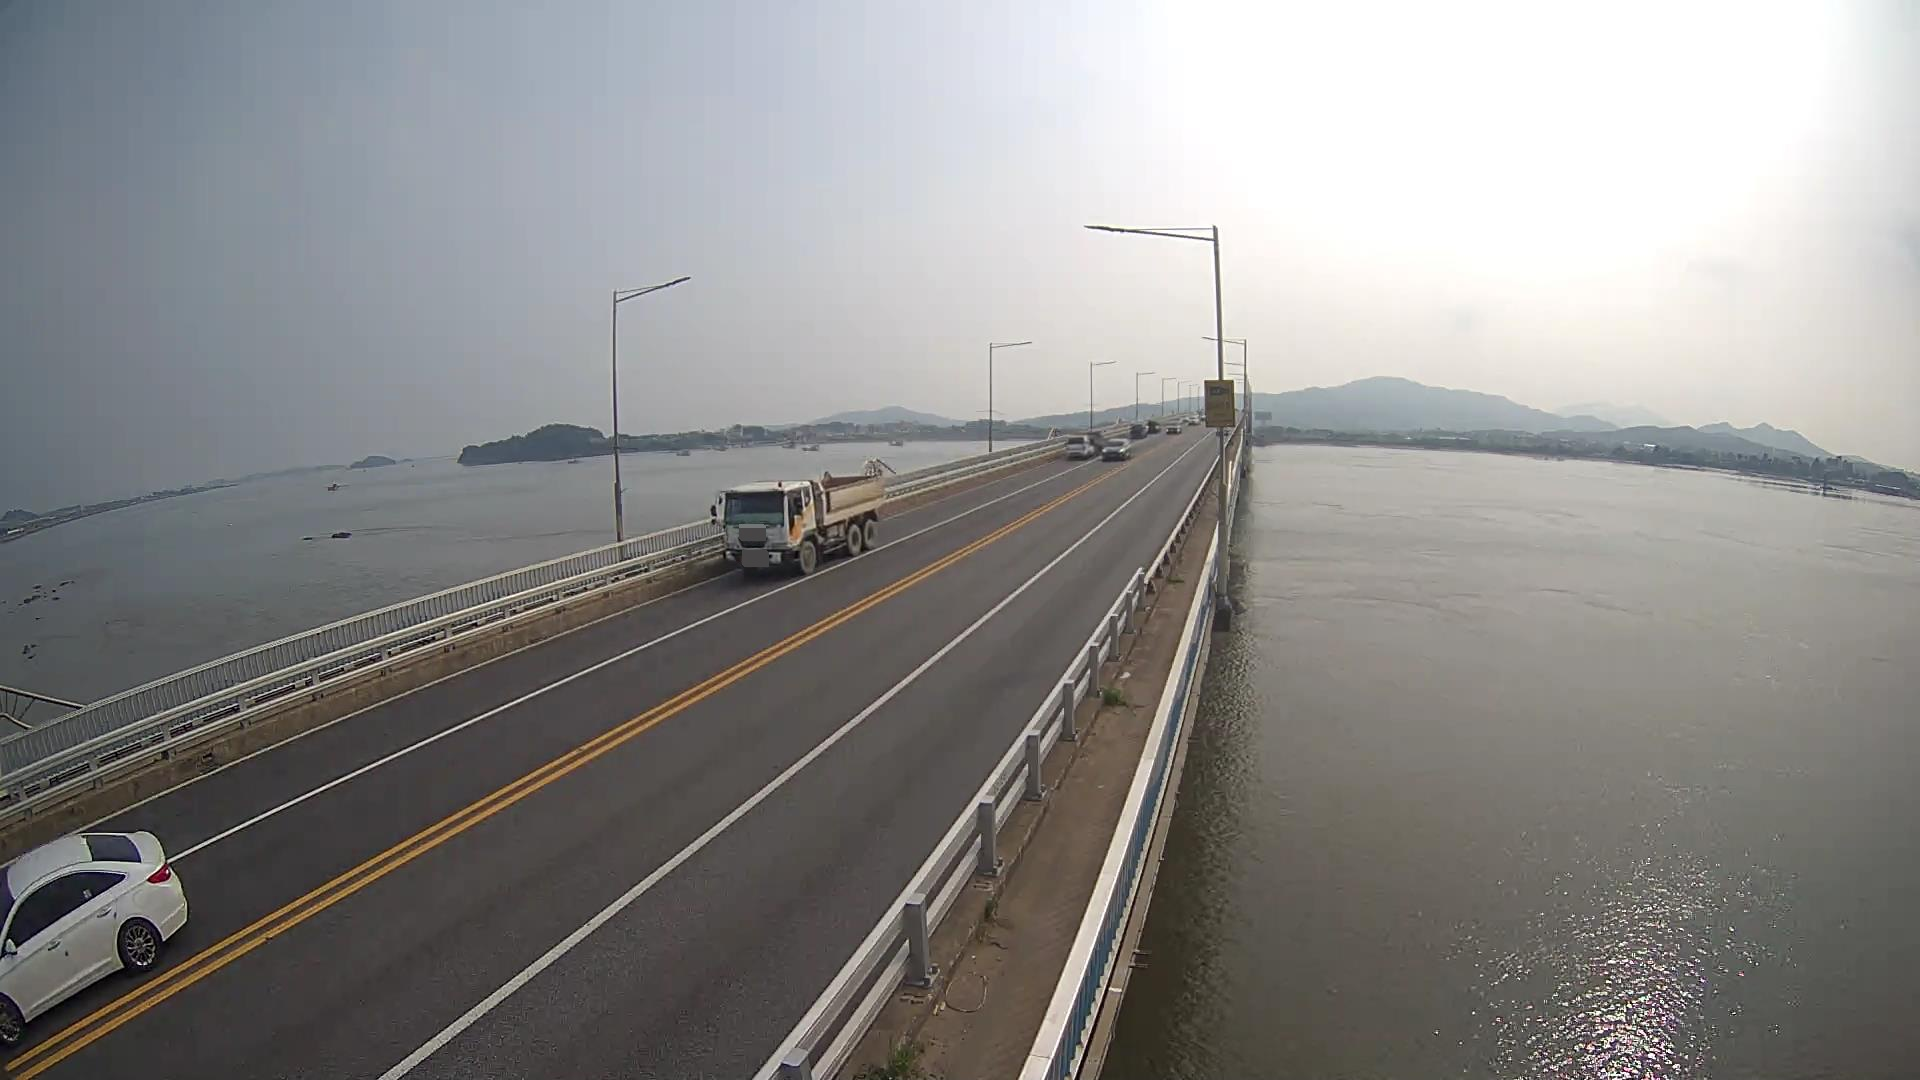정상차량: (710, 470, 885, 575)
